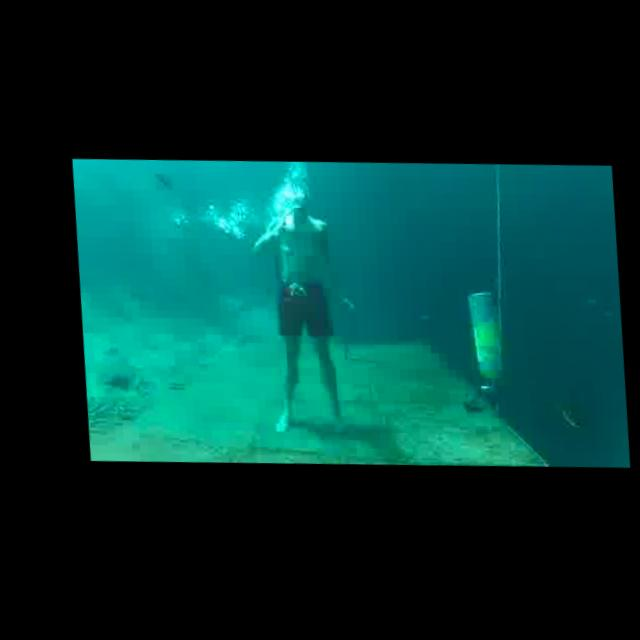human: (233, 173, 371, 449)
